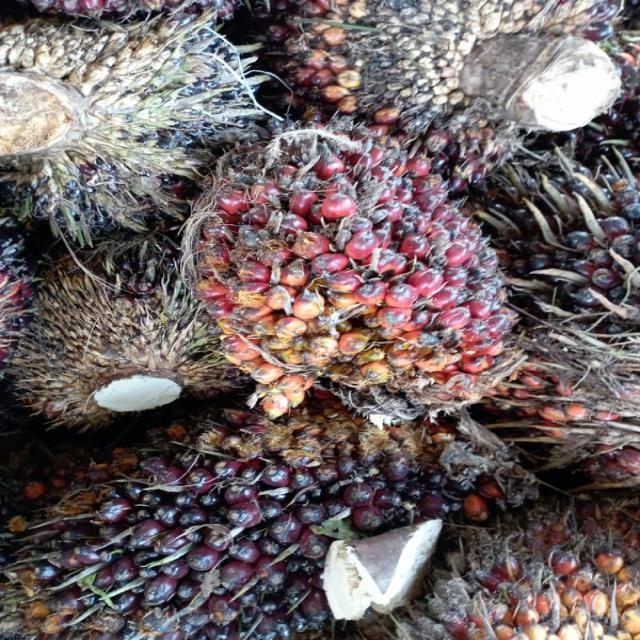fraksi 1: (128, 97, 544, 436)
